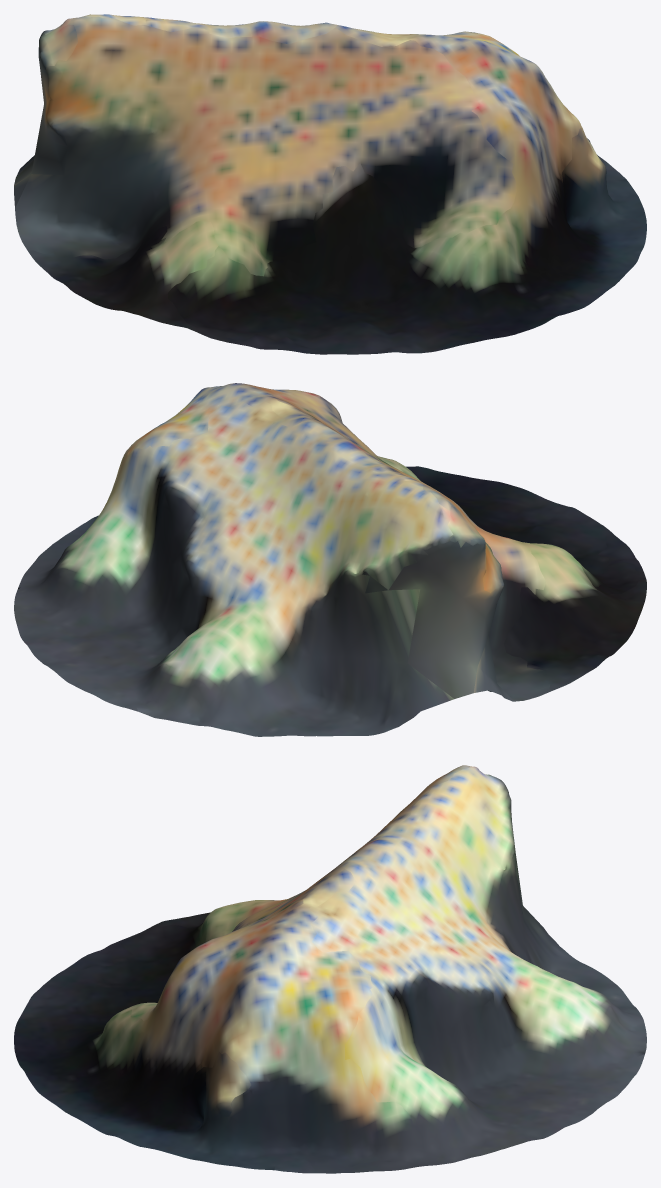
The model's file is Scaniverse_2024_04_18_151608.obj.
3 renders of one model, top to bottom at view 1: azimuth 30°, elevation 25°; view 2: azimuth 150°, elevation 25°; view 3: azimuth 270°, elevation 25°, orthographic. The views are drawn at different scales.
Size of the model in its own units: 0.1219 by 0.0432 by 0.1272.
Materials: 1 (1 with a texture image).
